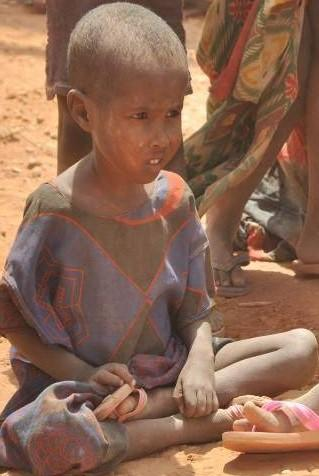Stunting: (15, 15, 255, 216)
